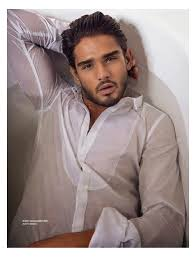middle_eastern_male: (74, 19, 129, 108)
